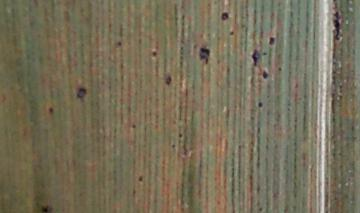tarspot: (229, 176, 238, 213), (254, 135, 262, 170), (198, 46, 211, 66), (181, 99, 190, 126), (331, 17, 341, 41), (250, 48, 261, 68), (75, 86, 87, 102), (292, 151, 299, 178), (291, 90, 299, 113), (162, 70, 173, 86), (329, 91, 336, 115), (246, 171, 254, 192), (291, 179, 299, 200), (176, 99, 183, 122), (178, 27, 187, 44), (248, 74, 258, 89), (330, 40, 337, 60), (39, 204, 53, 213), (180, 142, 189, 156), (260, 68, 270, 80), (254, 181, 262, 196), (323, 189, 329, 209), (188, 109, 196, 124), (287, 19, 294, 36), (117, 22, 124, 38), (337, 93, 344, 109), (267, 35, 277, 46), (251, 28, 257, 46), (274, 110, 283, 122), (303, 37, 310, 52), (223, 107, 231, 120), (232, 12, 240, 25), (330, 9, 341, 18), (142, 124, 148, 140), (292, 138, 299, 151), (111, 127, 118, 140), (337, 65, 344, 78), (220, 11, 229, 21), (197, 161, 205, 172), (125, 104, 133, 115), (183, 86, 190, 98), (257, 38, 265, 48), (251, 15, 258, 26), (257, 27, 264, 38), (256, 100, 264, 109), (230, 165, 236, 177), (349, 124, 357, 133), (349, 135, 358, 143), (271, 190, 280, 198), (338, 45, 344, 57), (142, 110, 148, 122), (323, 175, 329, 187), (255, 125, 262, 135), (179, 189, 186, 199), (239, 21, 246, 31), (303, 24, 310, 34), (265, 80, 272, 90), (107, 21, 113, 32), (351, 45, 357, 56), (147, 110, 153, 121), (176, 131, 184, 139), (257, 205, 265, 213), (331, 2, 339, 10), (349, 91, 357, 99), (150, 49, 157, 58), (330, 113, 337, 122), (178, 198, 187, 205), (290, 204, 297, 213), (282, 204, 289, 213), (264, 108, 271, 117), (225, 65, 231, 75), (292, 122, 298, 132), (47, 106, 54, 114), (137, 175, 144, 183), (215, 198, 222, 206), (179, 13, 186, 21), (254, 199, 261, 207), (198, 31, 205, 39), (206, 32, 213, 40), (170, 118, 178, 125), (178, 206, 186, 213), (179, 181, 186, 189), (336, 150, 344, 157), (331, 194, 338, 202), (99, 79, 107, 86), (131, 188, 137, 197), (330, 150, 336, 159), (249, 113, 255, 122), (331, 137, 337, 146), (288, 9, 294, 18), (119, 72, 125, 81), (118, 62, 125, 69), (228, 29, 235, 36), (179, 20, 186, 27), (192, 43, 199, 50), (236, 143, 243, 150), (302, 93, 309, 100), (179, 4, 186, 11), (239, 14, 246, 21), (170, 142, 176, 150), (264, 143, 270, 151), (153, 122, 159, 130), (153, 112, 159, 120), (177, 81, 183, 89), (273, 142, 279, 150), (112, 76, 120, 82), (276, 65, 282, 72), (262, 50, 269, 56), (330, 79, 336, 86), (178, 59, 184, 66), (337, 83, 344, 89), (293, 82, 299, 89), (215, 58, 221, 65), (252, 8, 258, 15), (153, 96, 159, 103), (300, 181, 306, 188), (116, 40, 122, 46), (130, 123, 136, 129), (330, 68, 336, 74), (338, 163, 344, 169), (346, 176, 352, 182), (152, 87, 158, 93), (137, 37, 142, 44), (330, 74, 336, 79), (178, 45, 184, 50), (178, 50, 184, 55), (178, 54, 184, 59), (248, 139, 254, 144), (285, 106, 290, 112), (292, 117, 298, 122), (264, 93, 269, 99), (327, 1, 340, 3), (107, 84, 111, 89)
